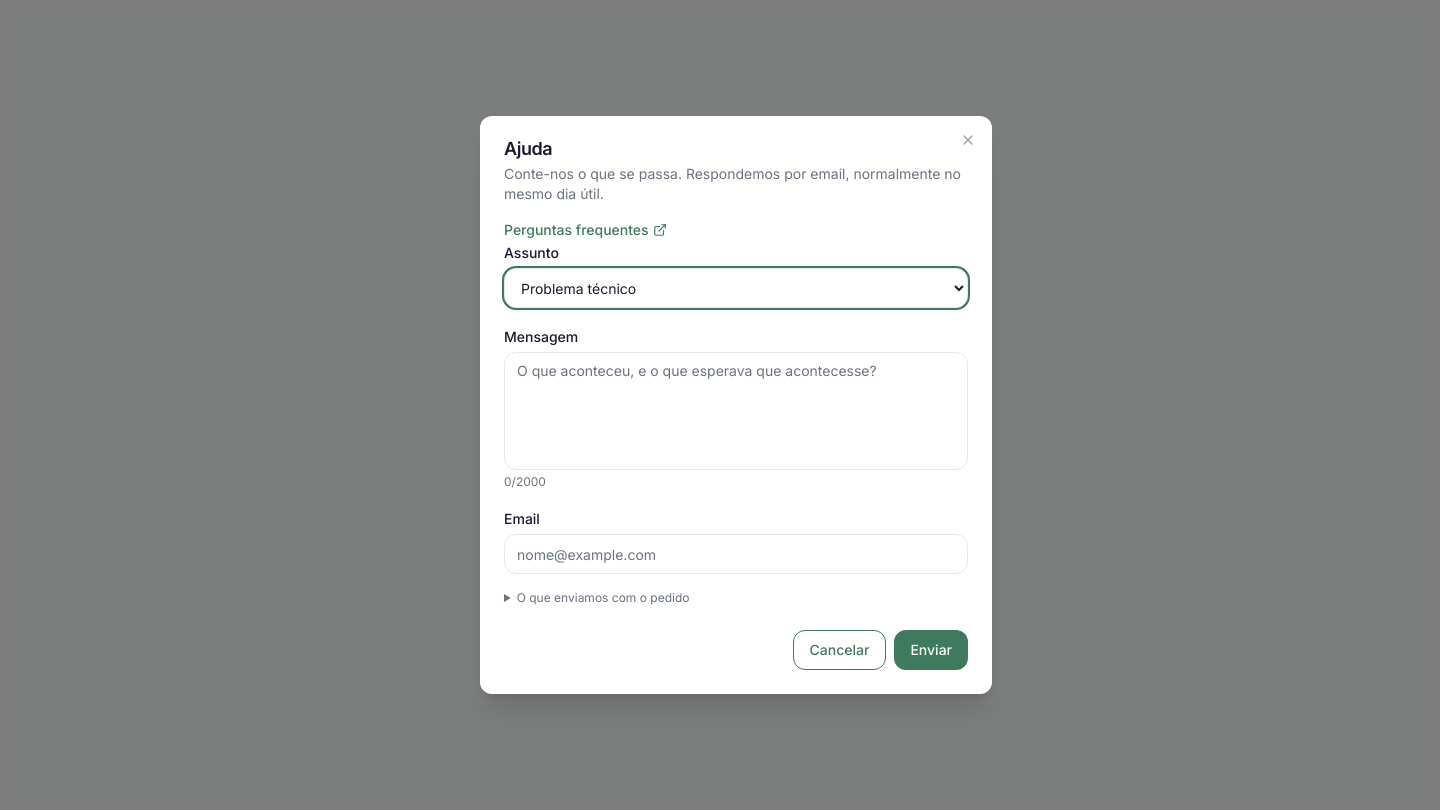
Test: HelpDialog — signed out › lists what it sends, collapsed, and shows it on request
The image size is (1440, 810).
Click the heading "O que enviamos com o pedido": x=603, y=598 [517,590,689,605]
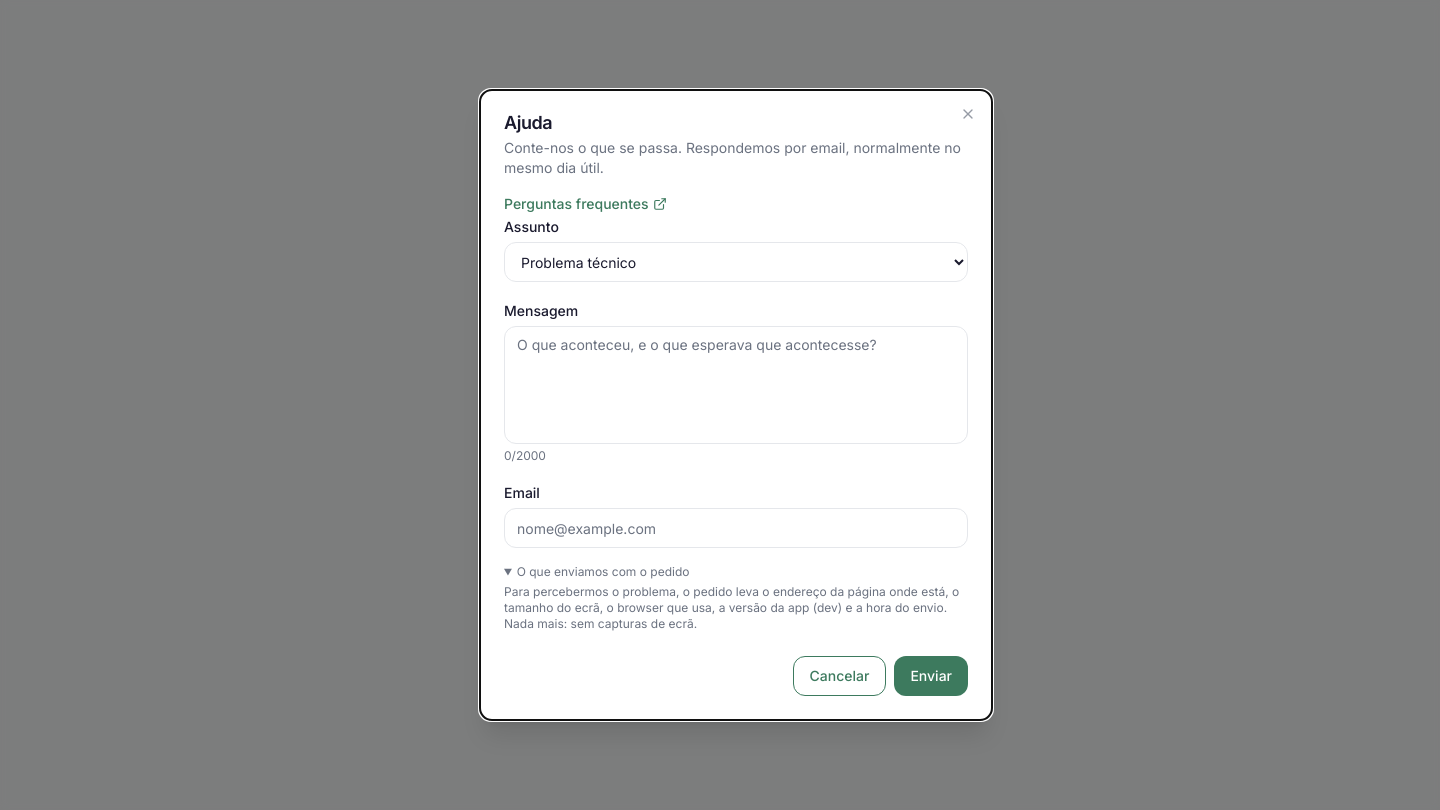
Expected: the text "O que enviamos" shows "endereço da página", [504,584,959,631]
Expected: the text "O que enviamos" shows "browser", [504,584,959,631]
Expected: the text "O que enviamos" shows "versão", [504,584,959,631]
